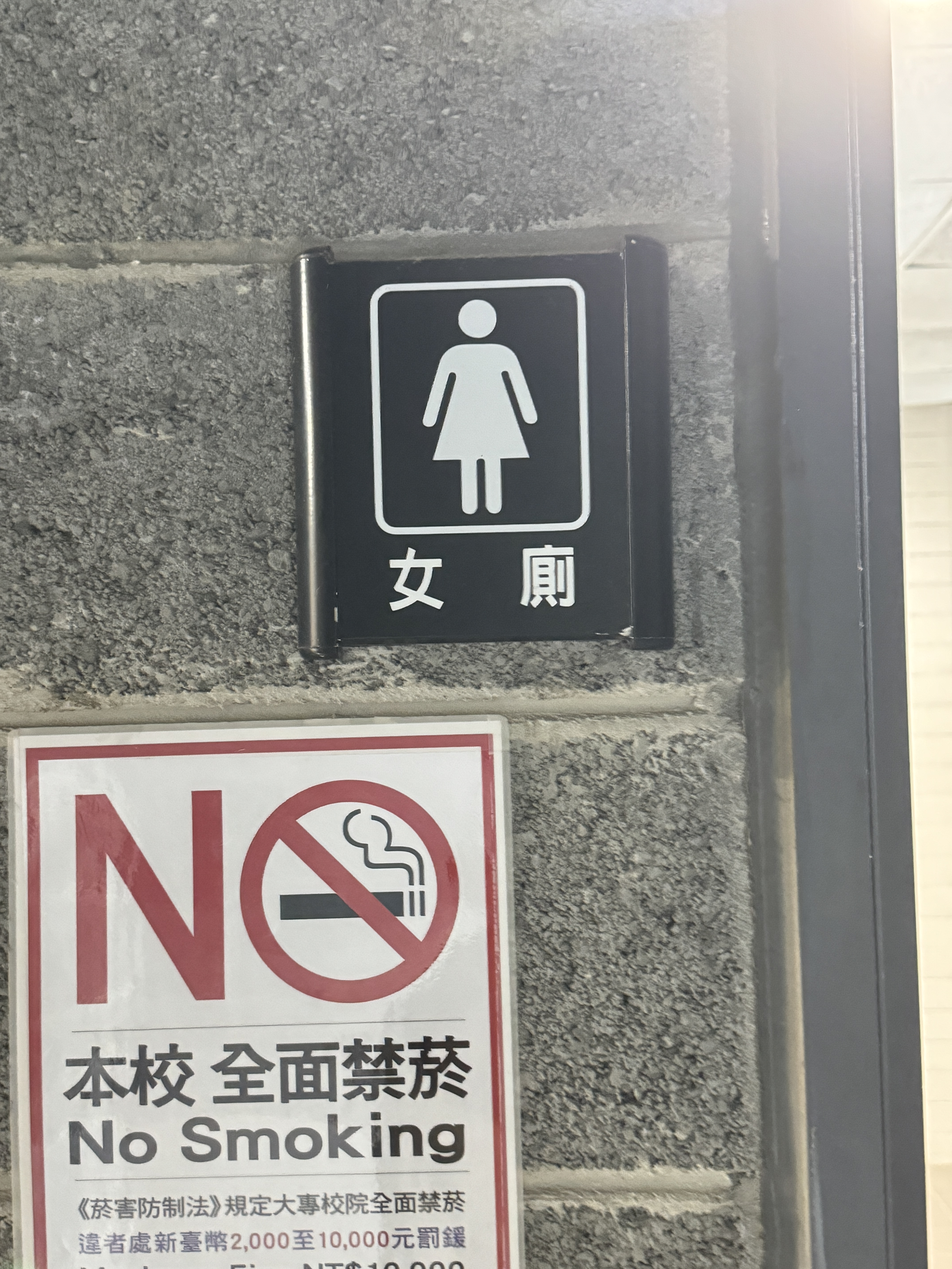toilet_sign: (242, 198, 719, 685), (293, 240, 671, 657)
